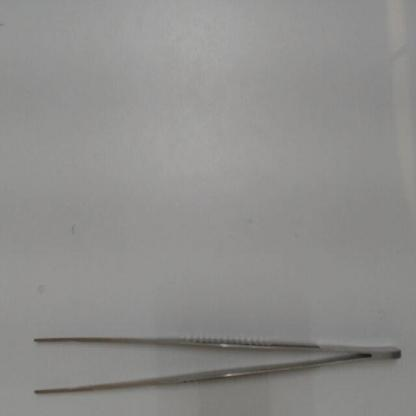DeBakey Dissector: (19, 314, 412, 406)
